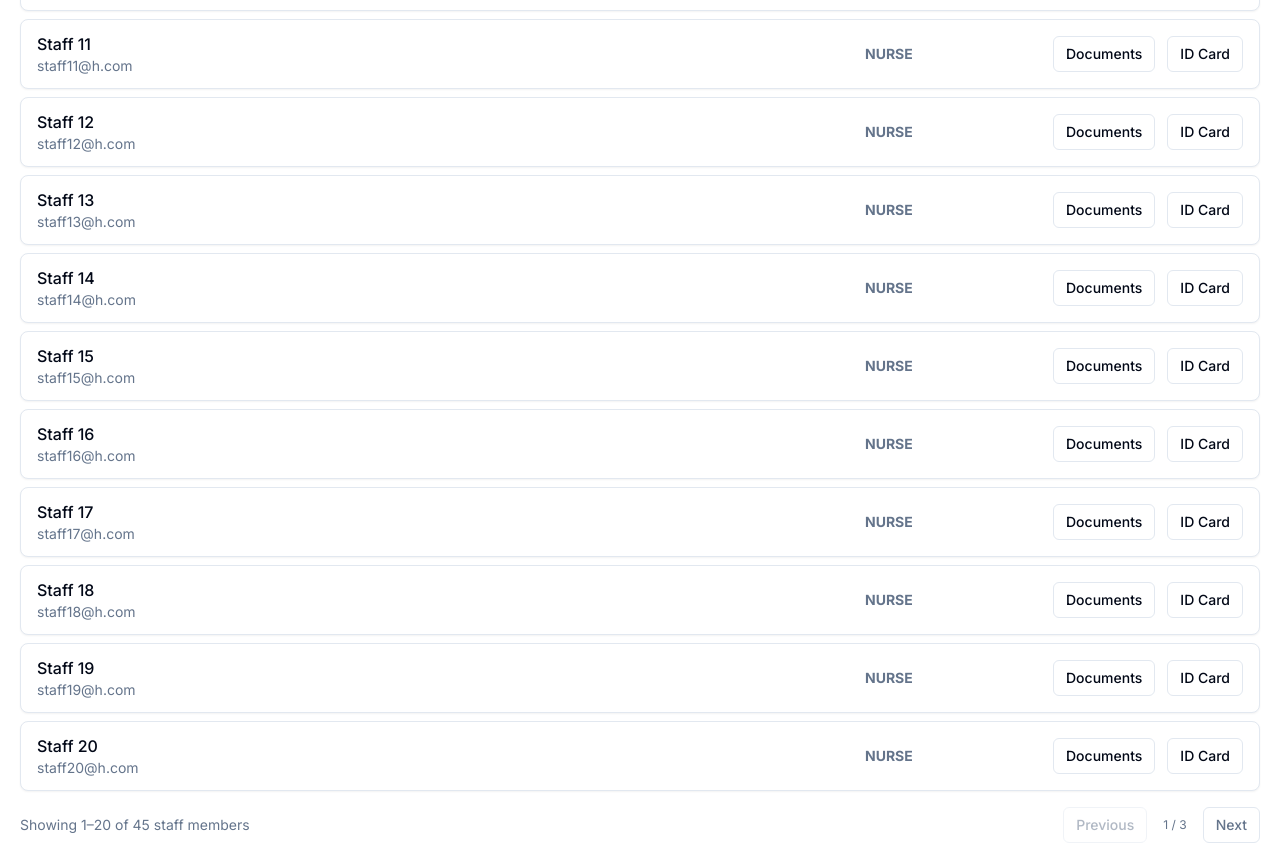
Test: StaffPage — server-side pagination › Next/Previous move between pages; the last page shows the remainder with Next disabled
The image size is (1280, 863).
(page scrolled)
Step 1. Click the button "Next" → (1231, 825), box [1203,807,1260,843]
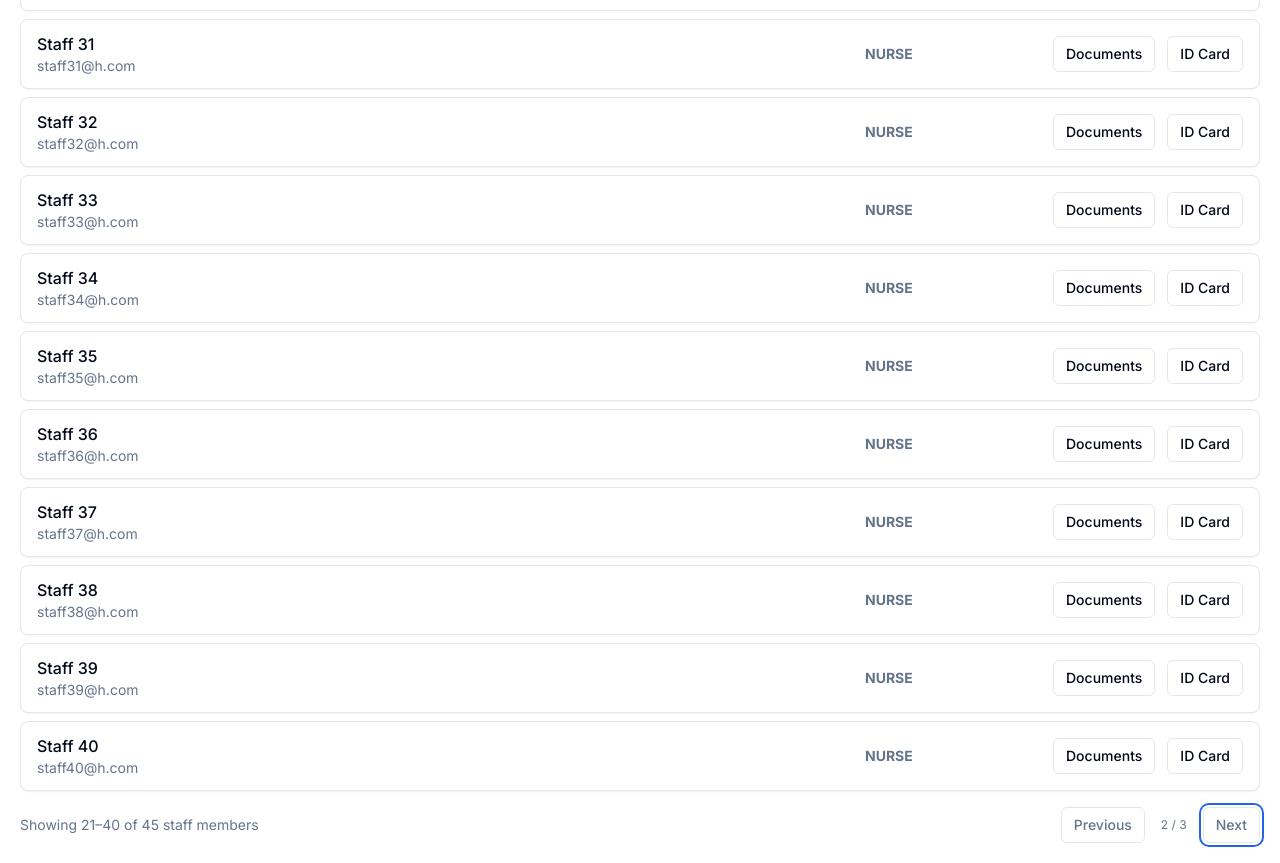
Now the text "Showing 21–40 of 45 staff members" is shown, box [20,815,259,835]
Step 2. Click the button "Next" → (1231, 825), box [1203,807,1260,843]
(page scrolled)
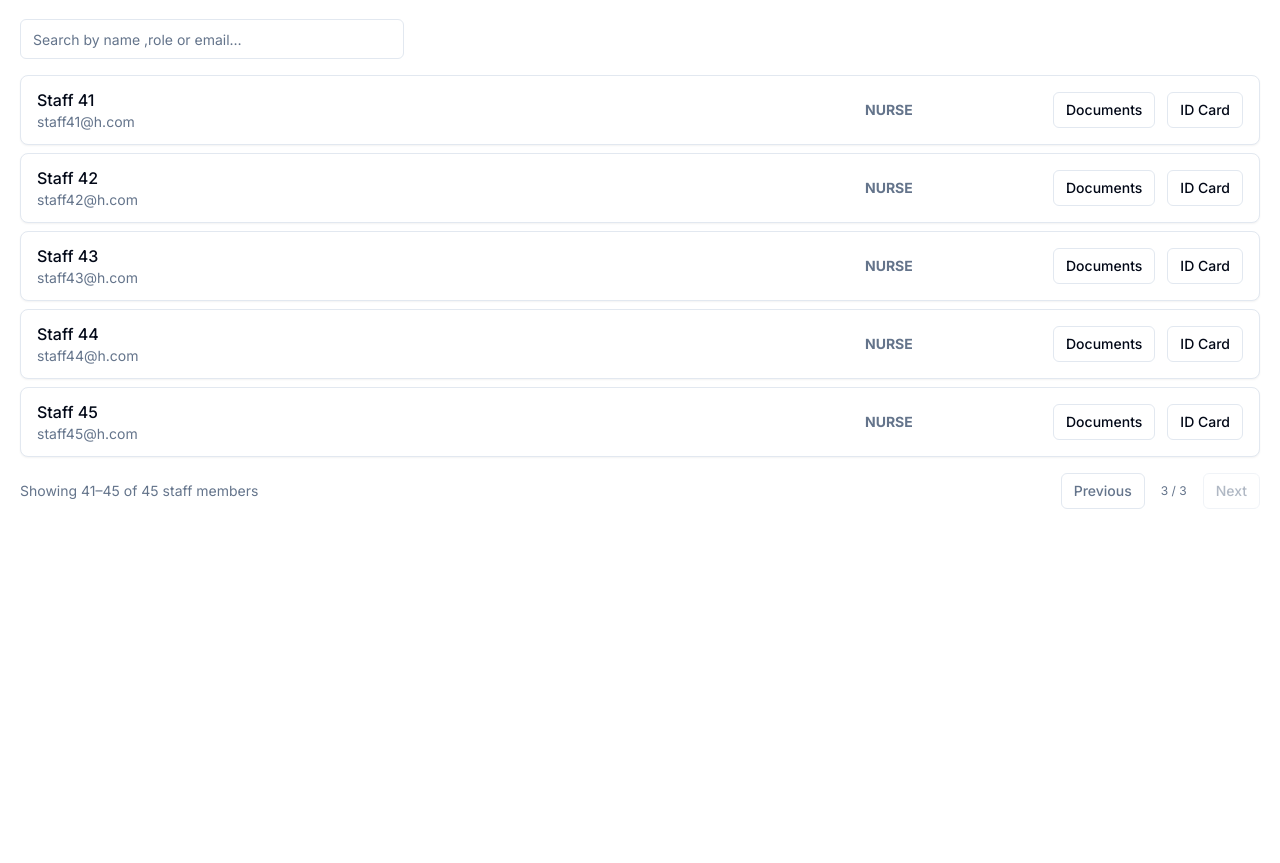
Now the text "Showing 41–45 of 45 staff members" is shown, box [20,481,258,501]
Now the text "3 / 3" is shown, box [1161,483,1187,498]
Now the text "Staff 41" is shown 5 times, box [37,90,94,110]; [37,168,98,188]; [37,246,98,266]; [37,324,99,344]; [37,402,98,422]
Step 3. Click the button "Previous" → (1103, 491), box [1061,473,1145,509]
(page scrolled)
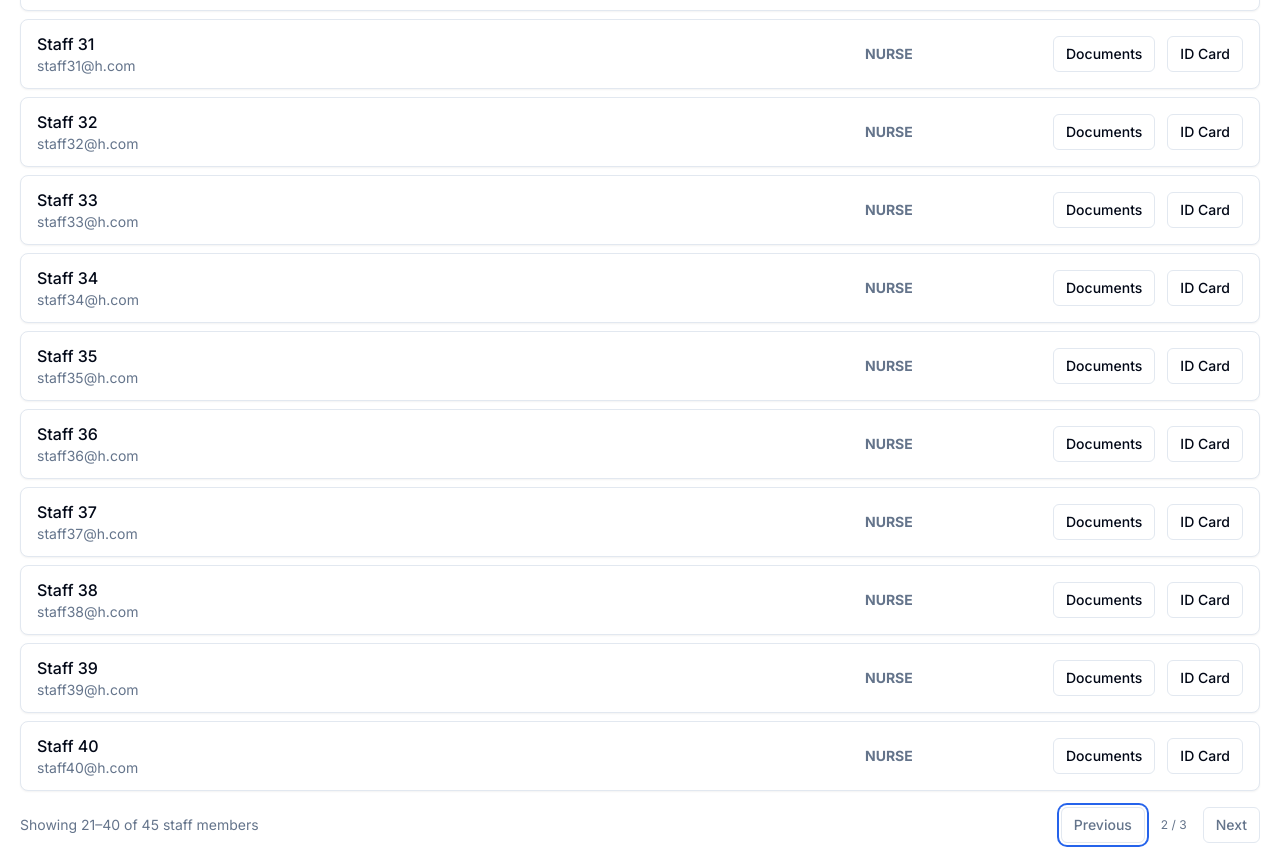
Now the text "2 / 3" is shown, box [1161,817,1187,832]
